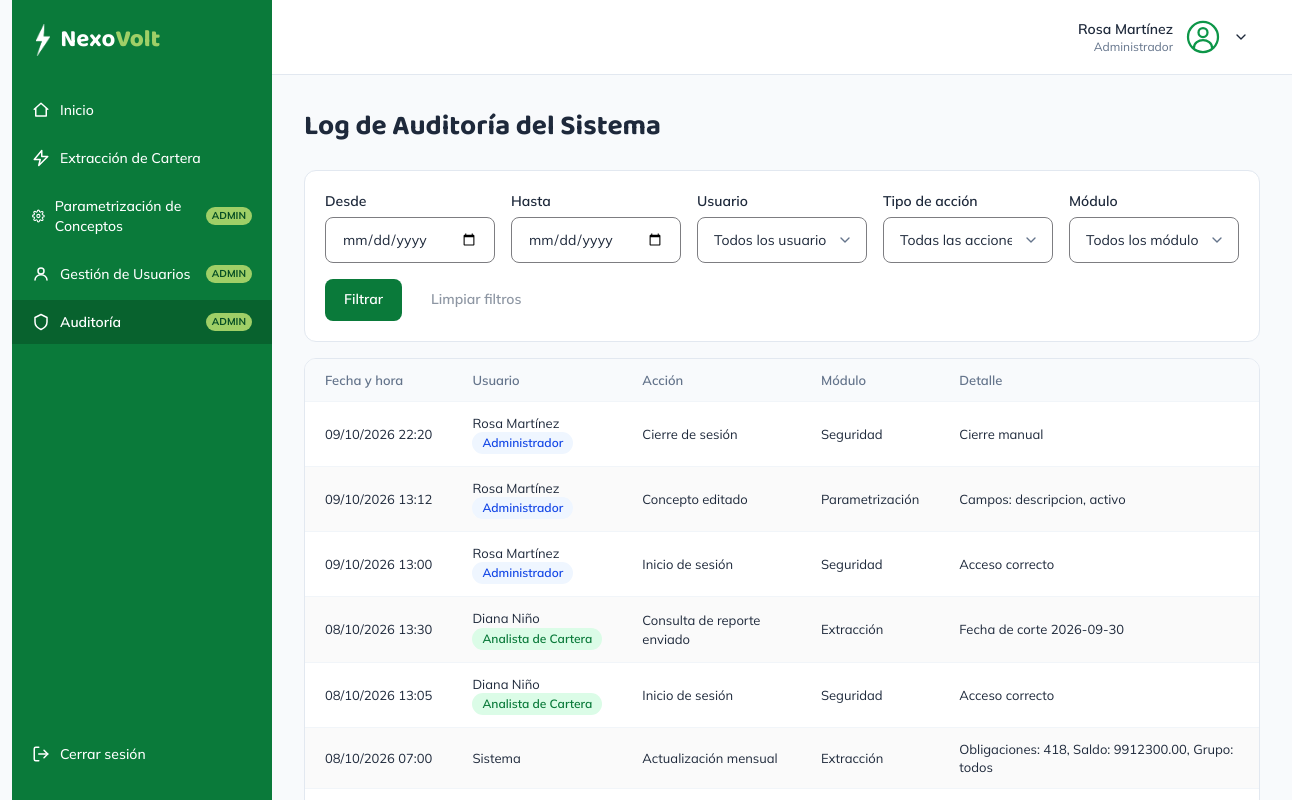
Test: Log de auditoría › un rango de fechas válido filtra (inclusivo) y sin coincidencias muestra el aviso vacío
This screenshot has width=1292, height=800.
Type "2026-09-29" into the date field labelled "Desde" at (410, 240), box [325,217,495,263]
Type "2026-09-29" into the date field labelled "Hasta" at (596, 240), box [511,217,681,263]
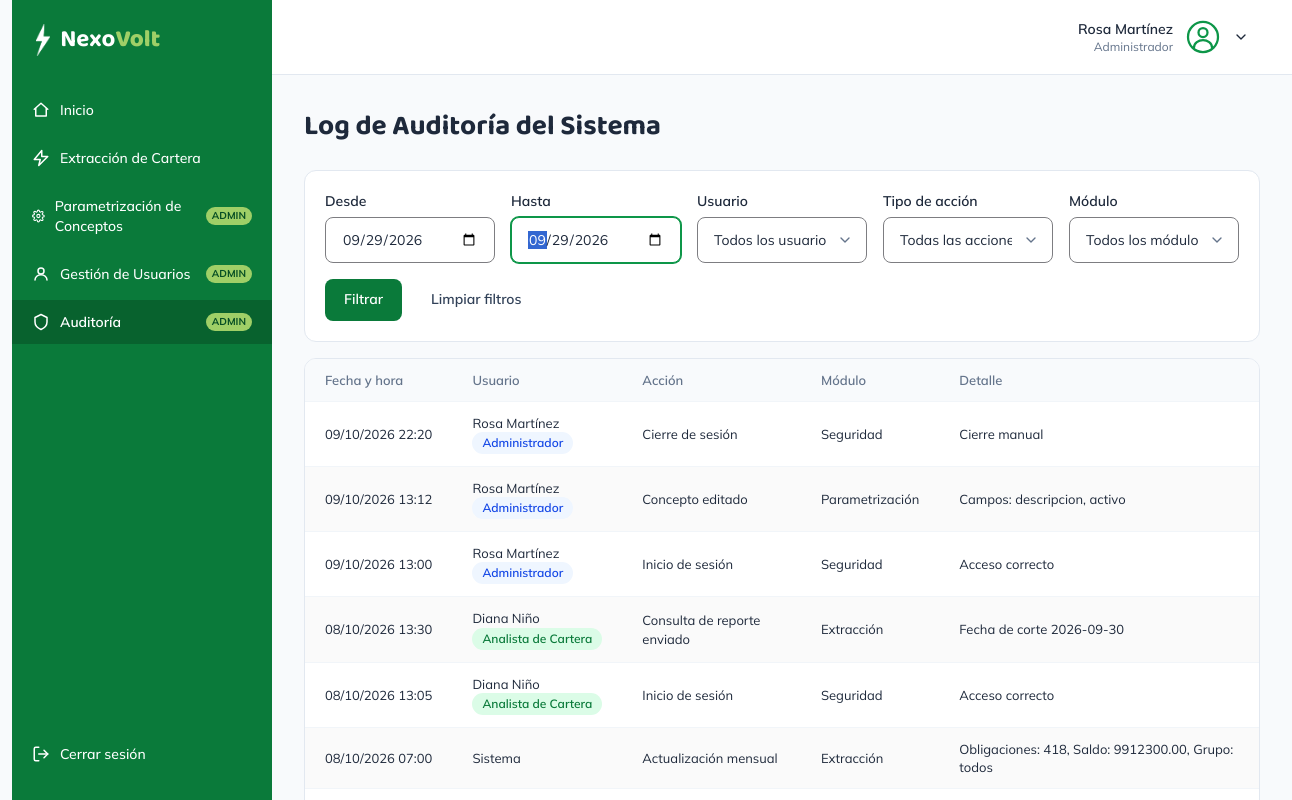
Click the button "Filtrar" at (364, 300), box [325,279,402,321]
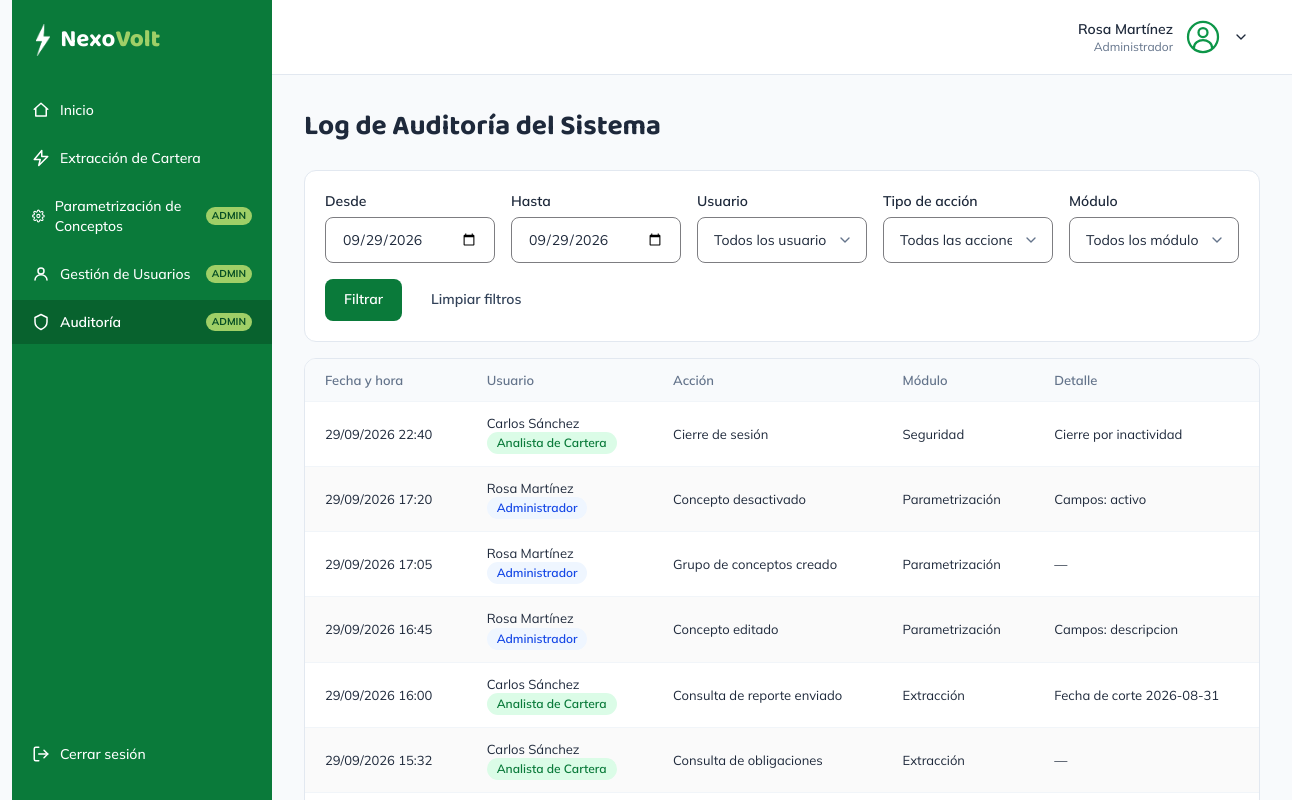
Now the text "29/09/2026 22:40" is shown, box [305,401,467,467]
Now the text "29/09/2026 17:20" is shown, box [305,467,467,532]
Now the text "29/09/2026 17:05" is shown, box [305,532,467,597]
Clear the date field labelled "Desde" at (410, 240), box [325,217,495,263]
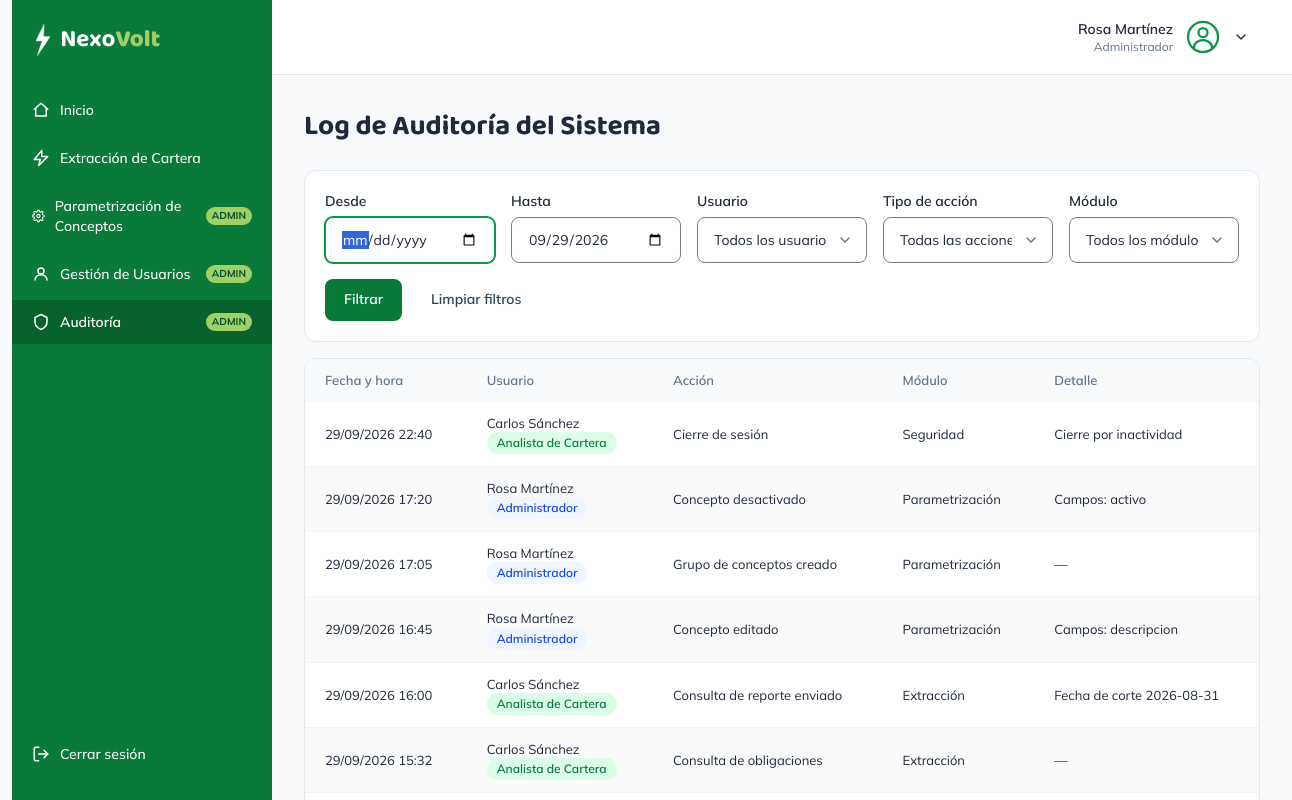
Clear the date field labelled "Hasta" at (596, 240), box [511,217,681,263]
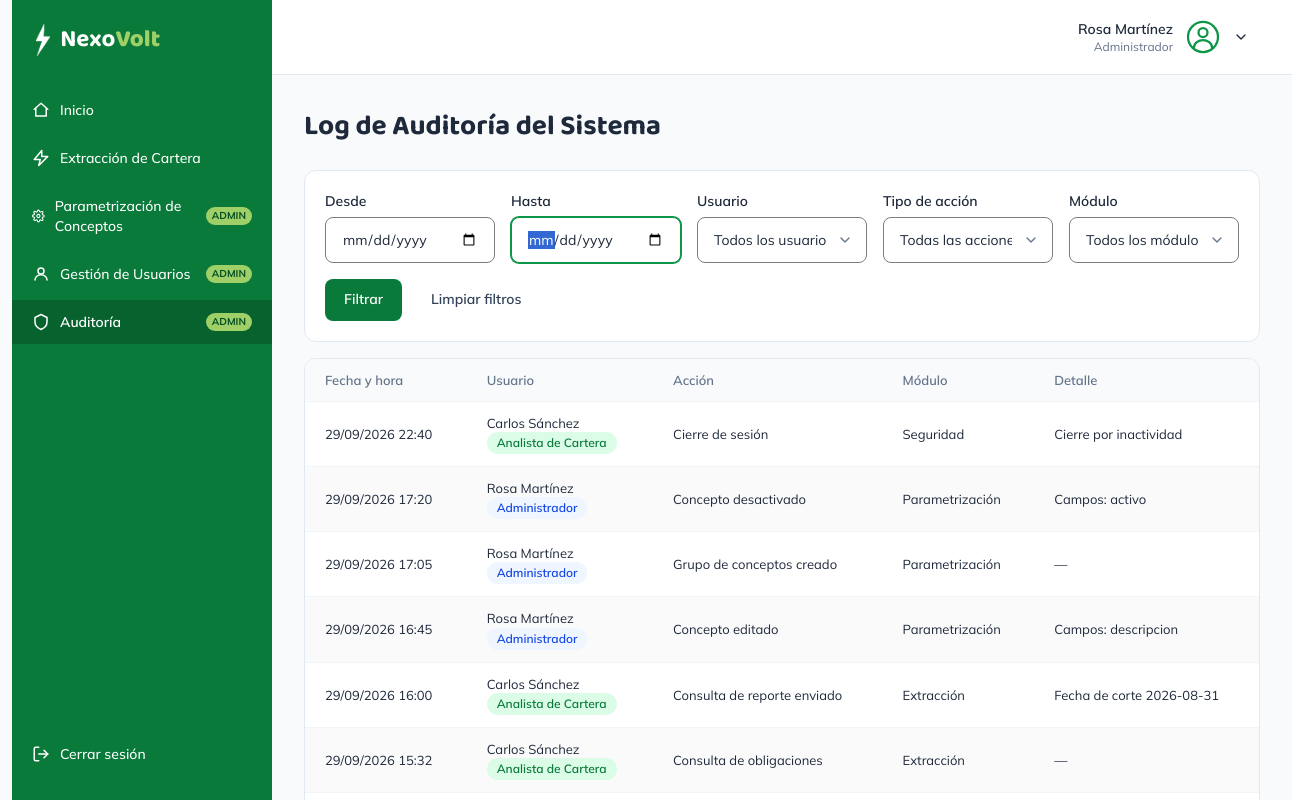
Type "2030-01-01" into the date field labelled "Desde" at (410, 240), box [325,217,495,263]
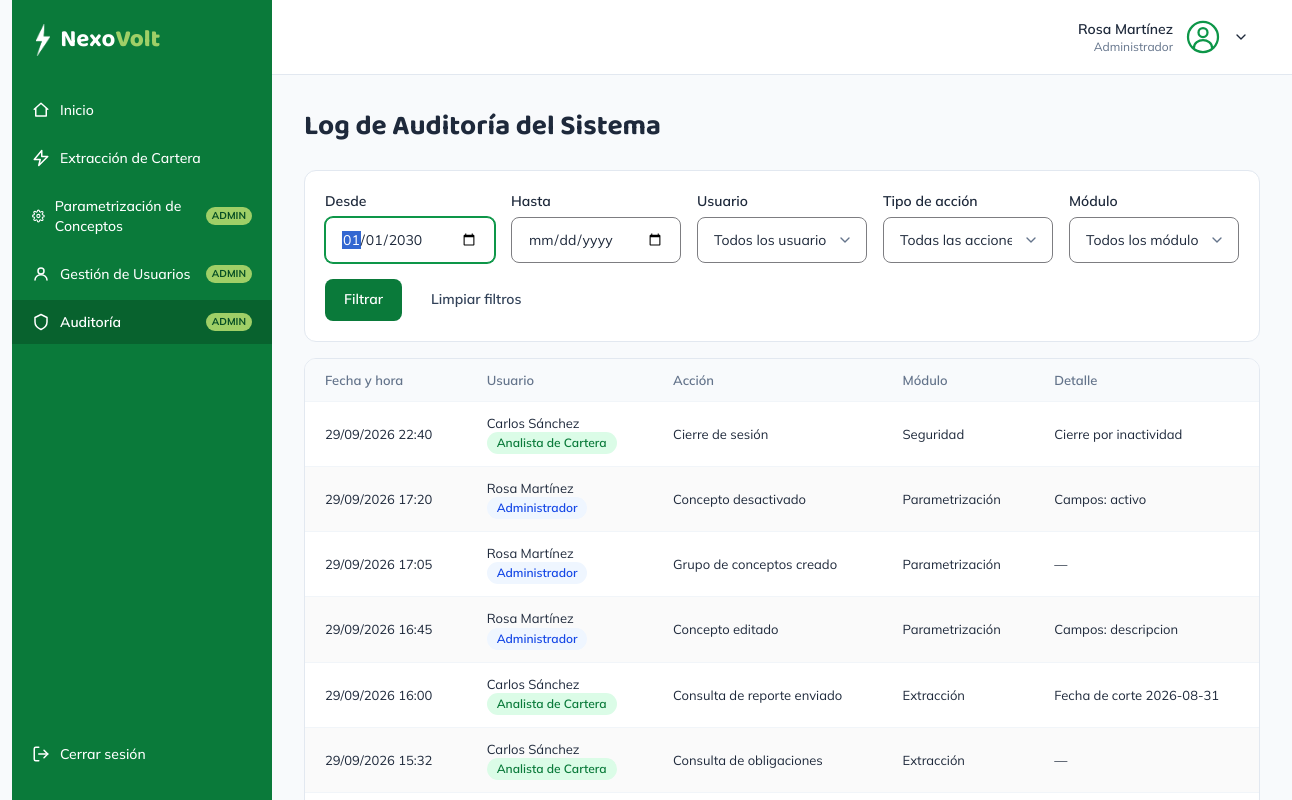
Click the button "Filtrar" at (364, 300), box [325,279,402,321]
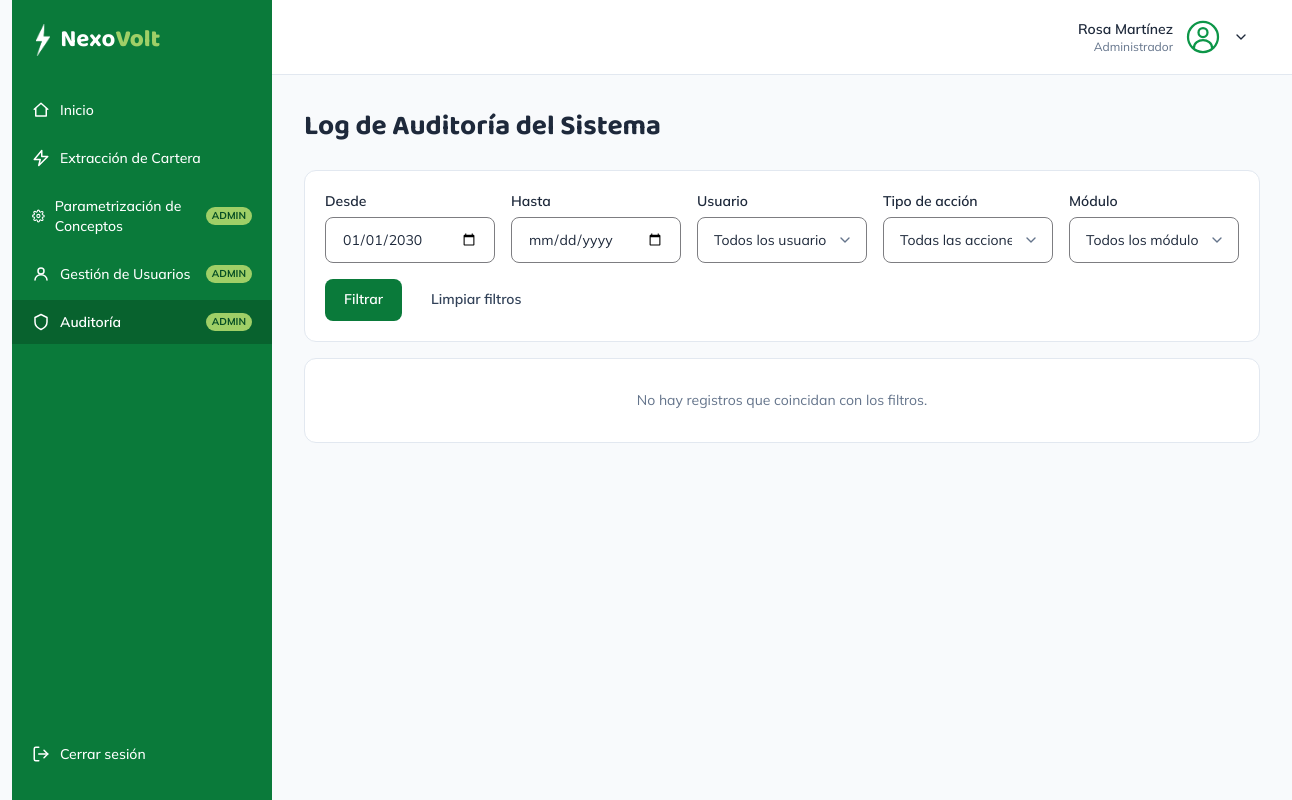
Now the text "No hay registros que coincidan con los filtros." is shown, box [637,391,927,409]
